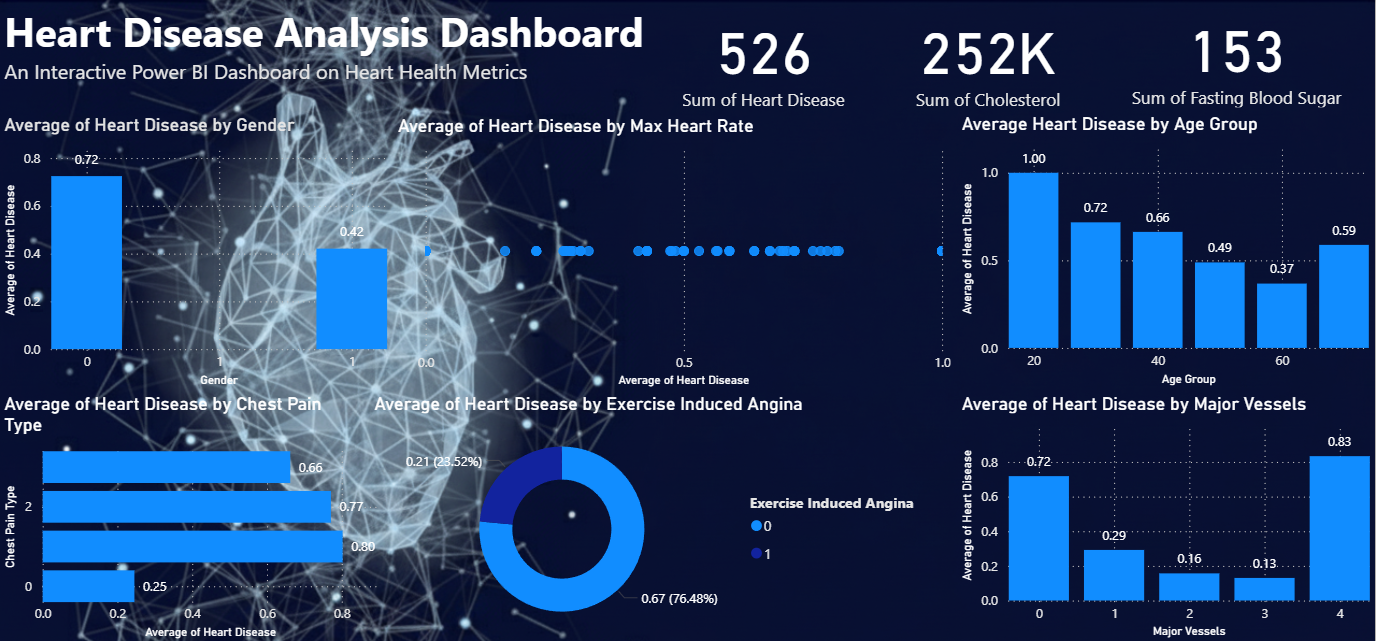

The dashboard page shown, as its layout file describes it:
{"tool":"powerbi","page":{"name":"Charts","canvas":[1280,600],"ordinal":0},"visuals":[{"type":"card","fields":{"Values":["Sum(heart.Heart Disease)"]},"box":[606.2,1.2,211.2,107.5],"z":0},{"type":"card","fields":{"Values":["Sum(heart.Cholesterol)"]},"box":[817.4,1.2,205.8,107],"z":1000},{"type":"columnChart","fields":{"Category":["heart.Gender"],"Y":["Avg(heart.Heart Disease)"]},"box":[0,107.5,366.2,258.8],"z":2000},{"type":"textbox","box":[0,0,605.8,107],"z":3000},{"type":"columnChart","title":"Average Heart Disease by Age  Group","fields":{"Category":["heart.Age (bins)"],"Y":["Avg(heart.Heart Disease)"]},"box":[891.2,106.2,388.8,258.8],"z":4000},{"type":"barChart","fields":{"Category":["heart.Chest Pain Type"],"Y":["Avg(heart.Heart Disease)"]},"box":[0,366.2,366.2,233.8],"z":5000},{"type":"donutChart","fields":{"Category":["heart.Exercise Induced Angina"],"Y":["Avg(heart.Heart Disease)"]},"box":[344.4,366.4,524.2,233.3],"z":6000},{"type":"clusteredColumnChart","fields":{"Category":["heart.Major Vessels"],"Y":["Avg(heart.Heart Disease)"]},"box":[890.6,366.4,389.7,233.3],"z":7000},{"type":"scatterChart","fields":{"Category":["heart.Max Heart Rate"],"X":["Avg(heart.Heart Disease)"]},"box":[366.4,108.4,524.2,258],"z":8000},{"type":"card","fields":{"Values":["Sum(heart.Fasting Blood Sugar)"]},"box":[1023.7,0,256.6,105.7],"z":11000}]}

Visuals, with their boxes in screenshot pixels (x1, y1, x2, y2), scaled from the page's 1280x600 canvas onto the 1376x641 screenshot:
card - Sum(heart.Heart Disease): [x1=652, y1=1, x2=879, y2=116]
card - Sum(heart.Cholesterol): [x1=879, y1=1, x2=1100, y2=116]
columnChart - heart.Gender x Avg(heart.Heart Disease): [x1=0, y1=115, x2=394, y2=391]
textbox: [x1=0, y1=0, x2=651, y2=114]
"Average Heart Disease by Age  Group" columnChart: [x1=958, y1=113, x2=1375, y2=390]
barChart - heart.Chest Pain Type x Avg(heart.Heart Disease): [x1=0, y1=391, x2=394, y2=640]
donutChart - heart.Exercise Induced Angina x Avg(heart.Heart Disease): [x1=370, y1=391, x2=934, y2=640]
clusteredColumnChart - heart.Major Vessels x Avg(heart.Heart Disease): [x1=957, y1=391, x2=1375, y2=640]
scatterChart - heart.Max Heart Rate x Avg(heart.Heart Disease): [x1=394, y1=116, x2=957, y2=391]
card - Sum(heart.Fasting Blood Sugar): [x1=1100, y1=0, x2=1375, y2=113]
